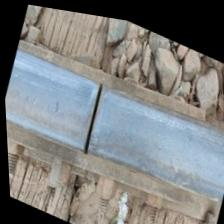person: (22, 40, 160, 191)
